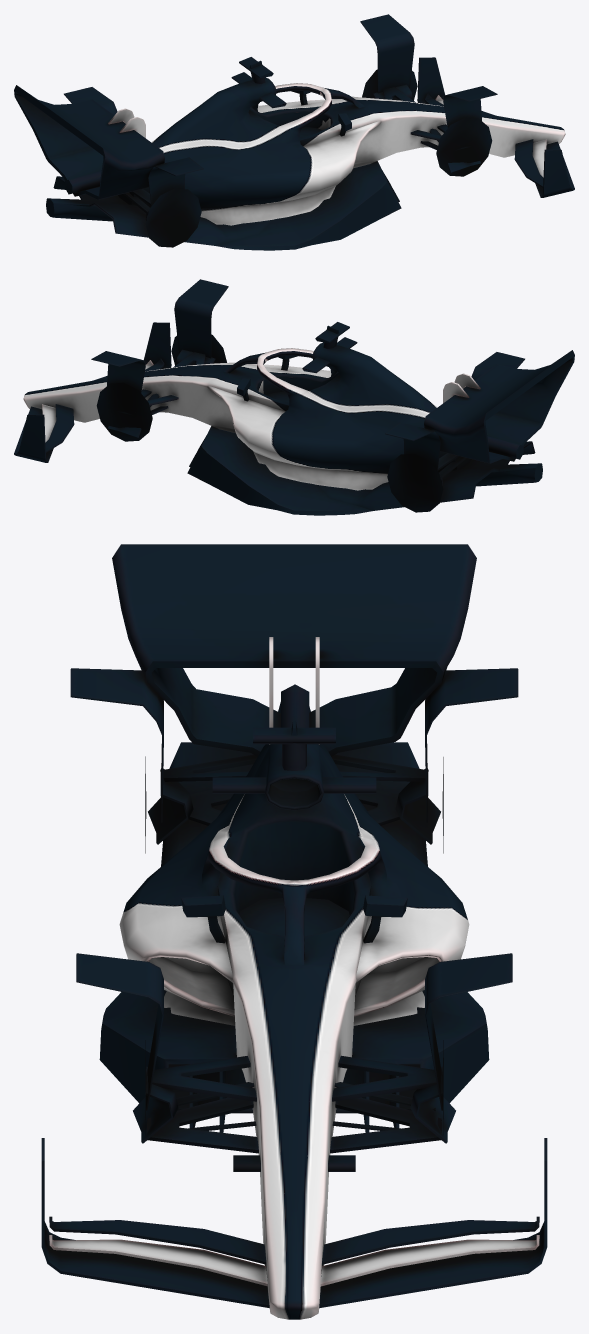
File: f1_car_18.dae
3 renders of one model, top to bottom at view 1: azimuth 30°, elevation 25°; view 2: azimuth 150°, elevation 25°; view 3: azimuth 270°, elevation 25°, orthographic. The views are drawn at different scales.
Parts seen in each view (by area): view 1: F1_Car; view 2: F1_Car; view 3: F1_Car.
Part boxes in pixels (x1,y1,x2,y2): F1_Car: (14, 14, 574, 250); F1_Car: (14, 279, 574, 515); F1_Car: (41, 544, 547, 1319).
Bounding box in the file's own units: 34.44 × 14.7 × 9.69.
Materials: 1 (1 with a texture image).
